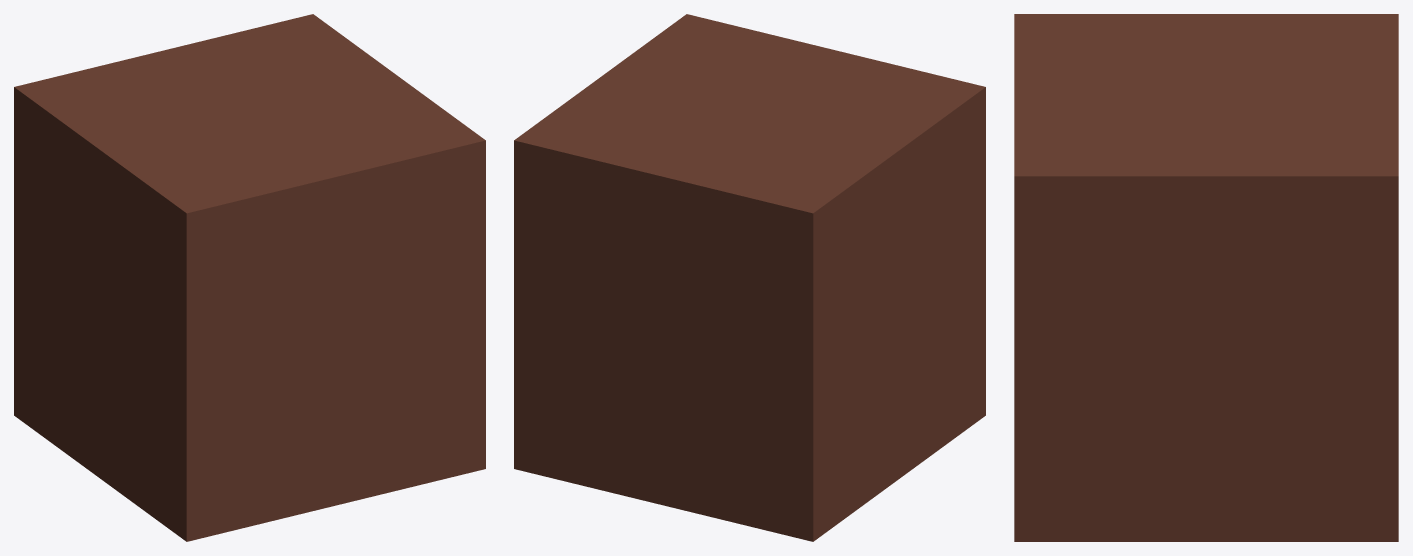
The model's file is Tile_7.fbx.
3 renders of one model, left to right at view 1: azimuth 30°, elevation 25°; view 2: azimuth 150°, elevation 25°; view 3: azimuth 270°, elevation 25°, orthographic. The views are drawn at different scales.
Parts seen in each view (by area): view 1: Cube.084; view 2: Cube.084; view 3: Cube.084.
Part boxes in pixels (x1,y1,x2,y2): Cube.084: (14, 14, 485, 541); Cube.084: (514, 14, 985, 541); Cube.084: (1014, 14, 1398, 541).
Bounding box in the file's own units: 200 × 210 × 200.
